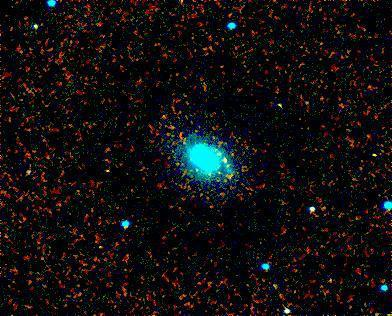star: (214, 148, 244, 178)
